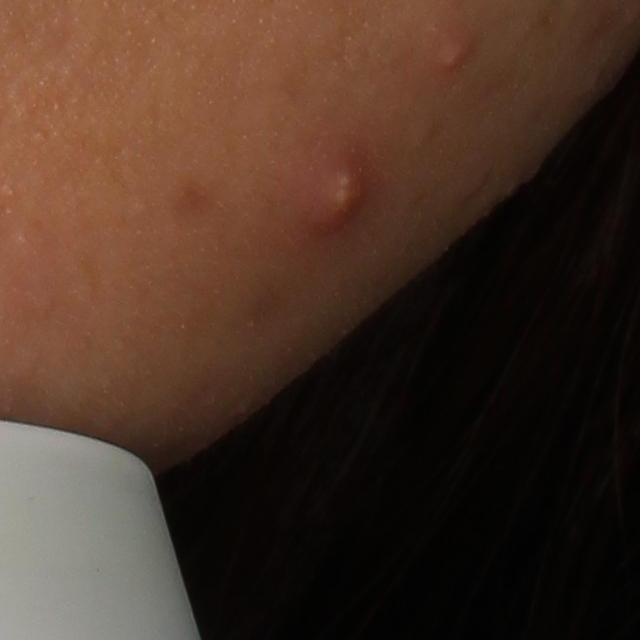pustule: (315, 159, 365, 236)
